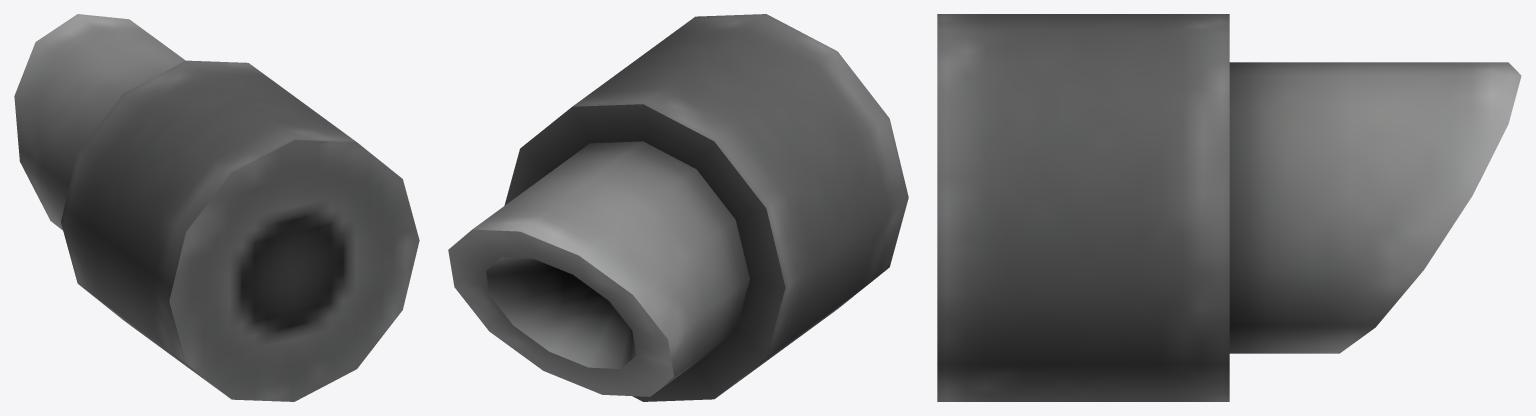
File: dorado_fuel_vent_srf_1.obj
3 renders of one model, left to right at view 1: azimuth 30°, elevation 25°; view 2: azimuth 150°, elevation 25°; view 3: azimuth 270°, elevation 25°, orthographic. The views are drawn at different scales.
Visible parts, largest first — view 1: dorado_fuel_vent_srf_1; view 2: dorado_fuel_vent_srf_1; view 3: dorado_fuel_vent_srf_1.
Part boxes in pixels (x1,y1,x2,y2): dorado_fuel_vent_srf_1: (14, 14, 419, 401); dorado_fuel_vent_srf_1: (448, 14, 908, 401); dorado_fuel_vent_srf_1: (937, 14, 1521, 401).
Size of the model in its own units: 0.1 by 0.1 by 0.15.
